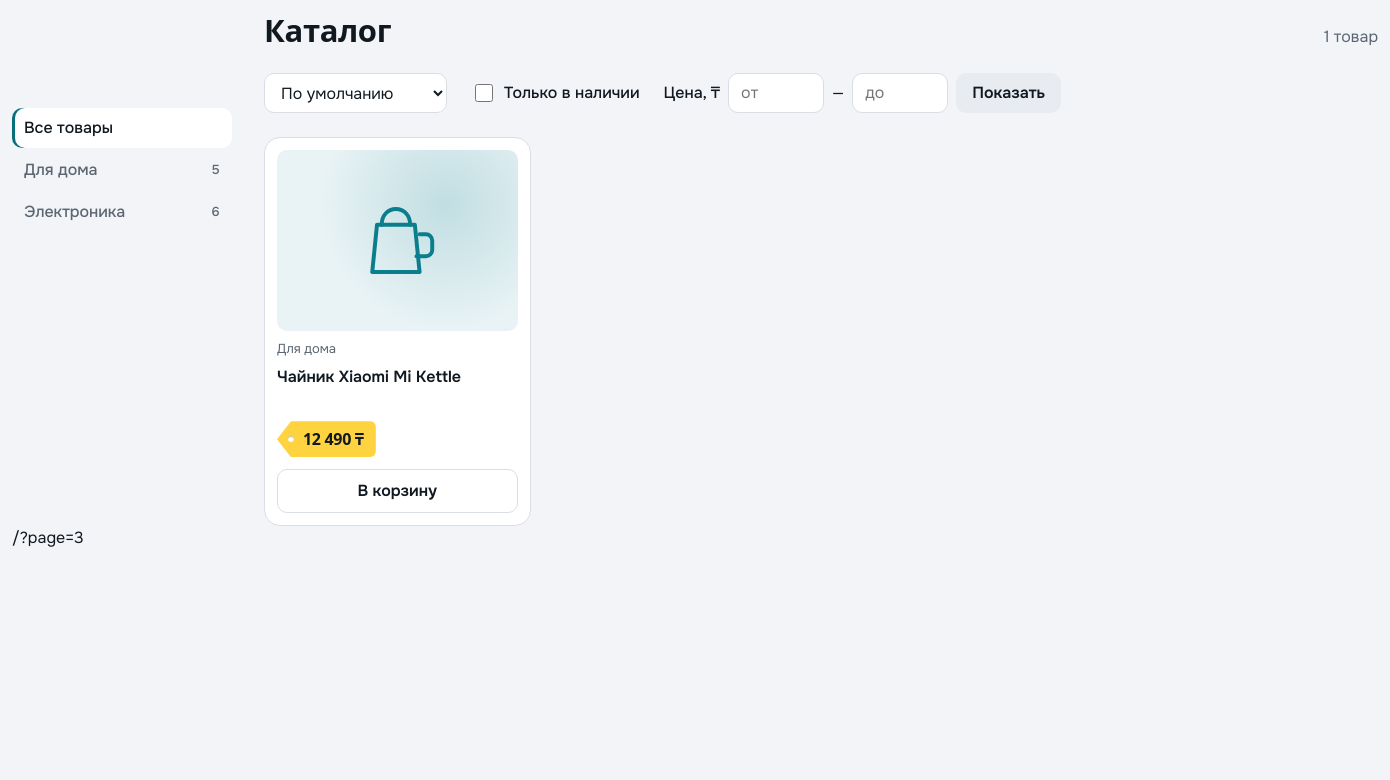
Test: выбор сортировки и «Только в наличии» меняют адрес и сбрасывают страницу
Expected: the element with test id "product-card" is shown, [264,137,530,526]
Select "Сначала дороже" in the dropdown named "Сортировка" at [356, 93], box [264,73,447,113]
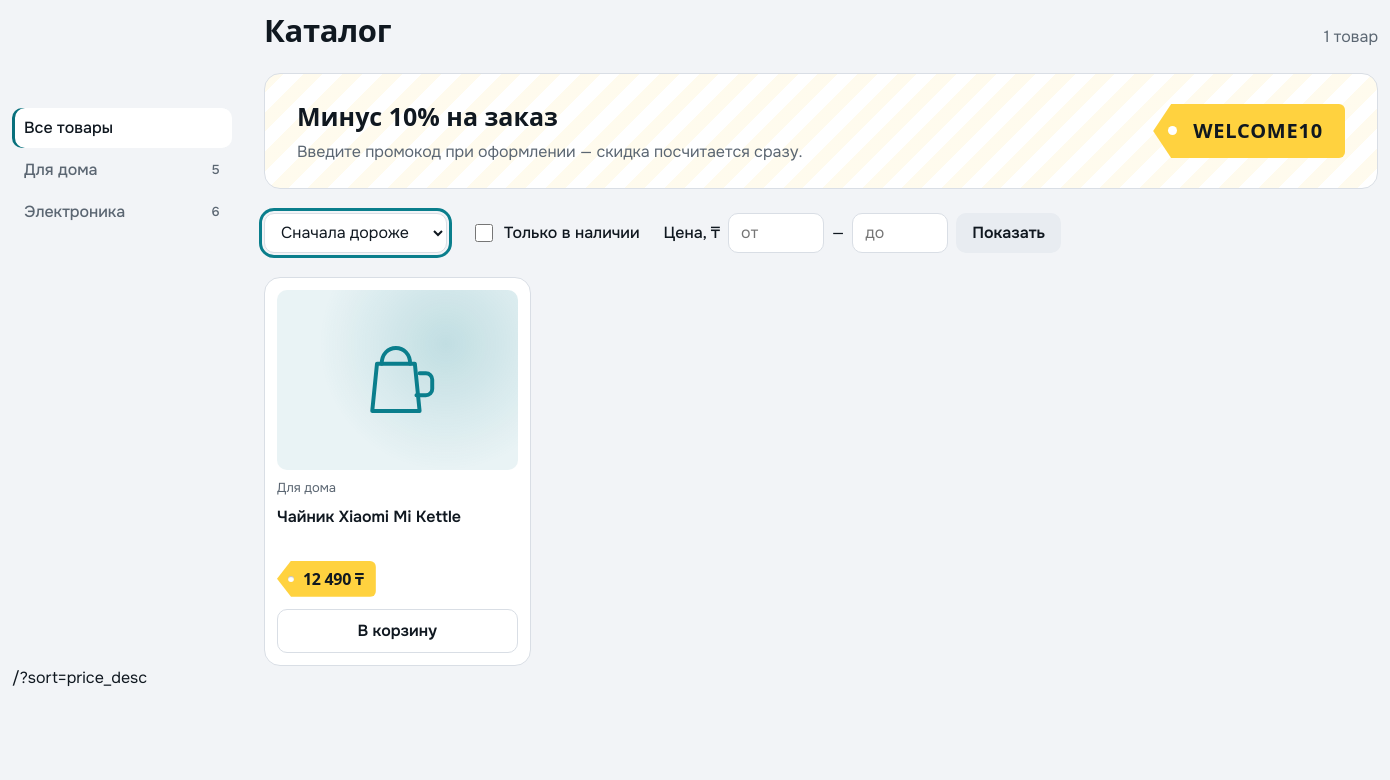
Expected: the text with test id "location" reads "/?sort=price_desc", [12,667,147,688]
Click the checkbox labelled "Только в наличии".
click(484, 233)  # box [475,224,493,242]
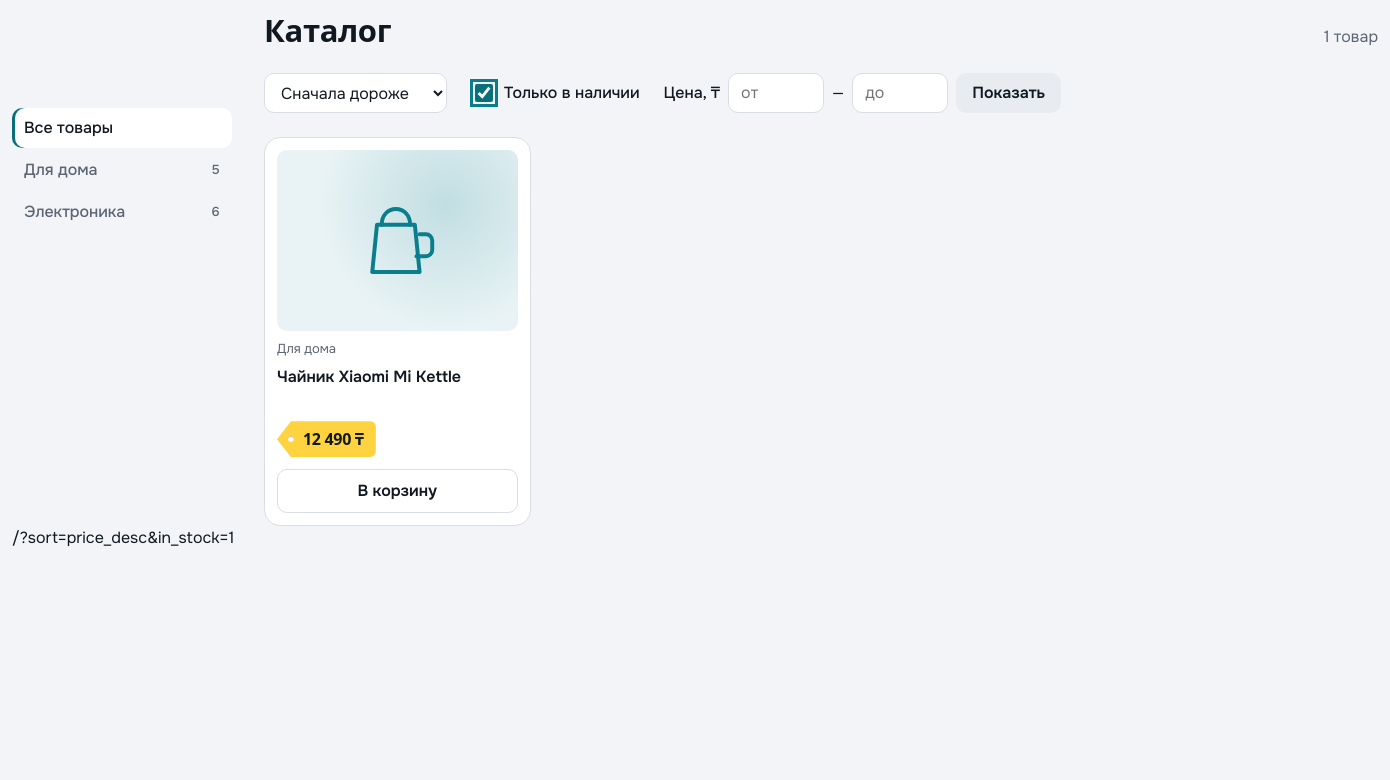
Expected: the text with test id "location" reads "/?sort=price_desc&in_stock=1", [12,527,234,548]
